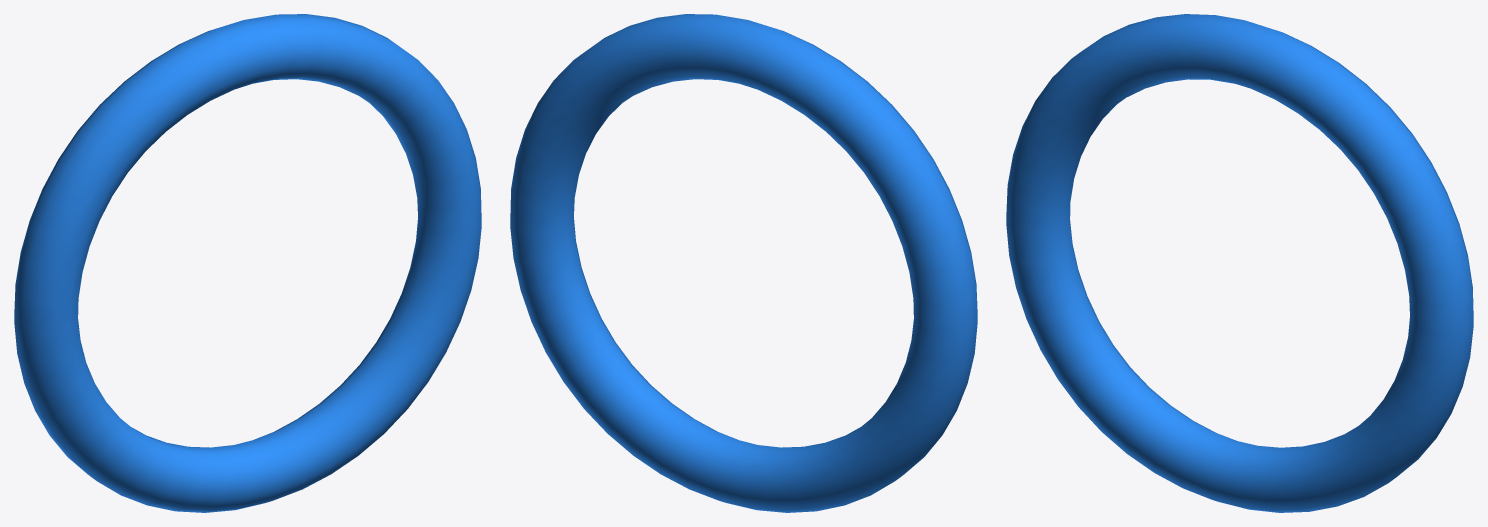
The model's file is ring_T2.fbx.
3 views of the same model, side by side, from view 1: azimuth 30°, elevation 25°; view 2: azimuth 150°, elevation 25°; view 3: azimuth 330°, elevation 25° (orthographic).
Parts seen in each view (by area): view 1: ring2_T2; view 2: ring2_T2; view 3: ring2_T2.
Part boxes in pixels (<box>): ring2_T2: <box>14,14,481,512</box>; ring2_T2: <box>510,14,977,512</box>; ring2_T2: <box>1006,14,1473,512</box>.
Bounding box in the file's own units: 1607 × 1607 × 193.
1 material, 1 textured.
